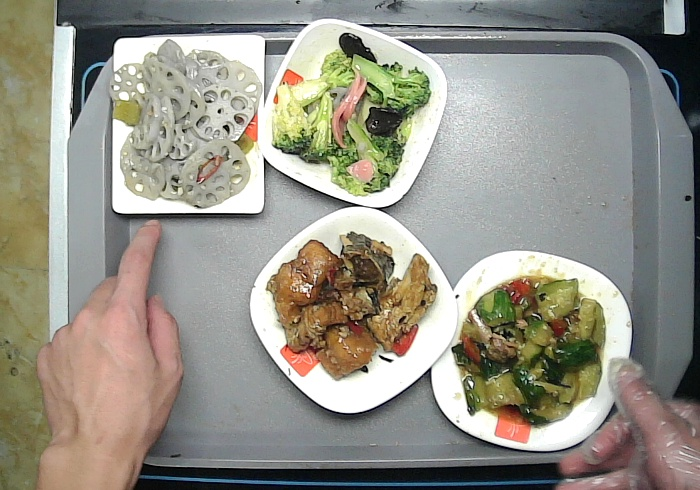SHKJ-Bai_Se_Cai_Die: (249, 205, 458, 414)
SHKJ-Bai_Se_Si_Fang_Cai_Die: (430, 248, 633, 452)
SHKJ-Bai_Se_Xiao_Fang_Die: (260, 17, 449, 209)
SHKJ-Si_Fang_Min: (109, 34, 268, 215)
